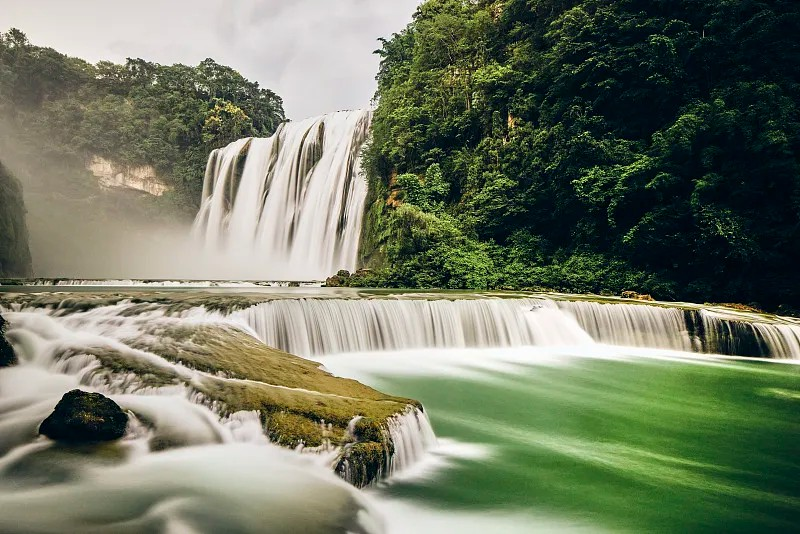Huangguoshu: (193, 108, 369, 278)
